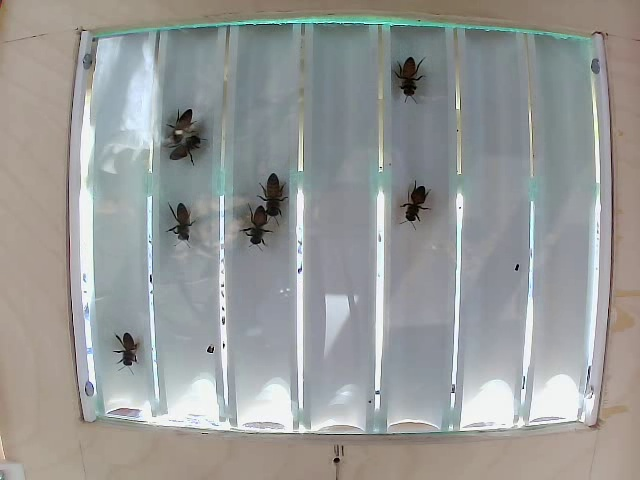bee: (240, 201, 279, 251), (388, 58, 422, 112), (401, 184, 444, 221), (160, 192, 192, 238), (167, 111, 203, 148), (261, 164, 283, 218), (119, 321, 142, 372), (176, 132, 210, 166)
